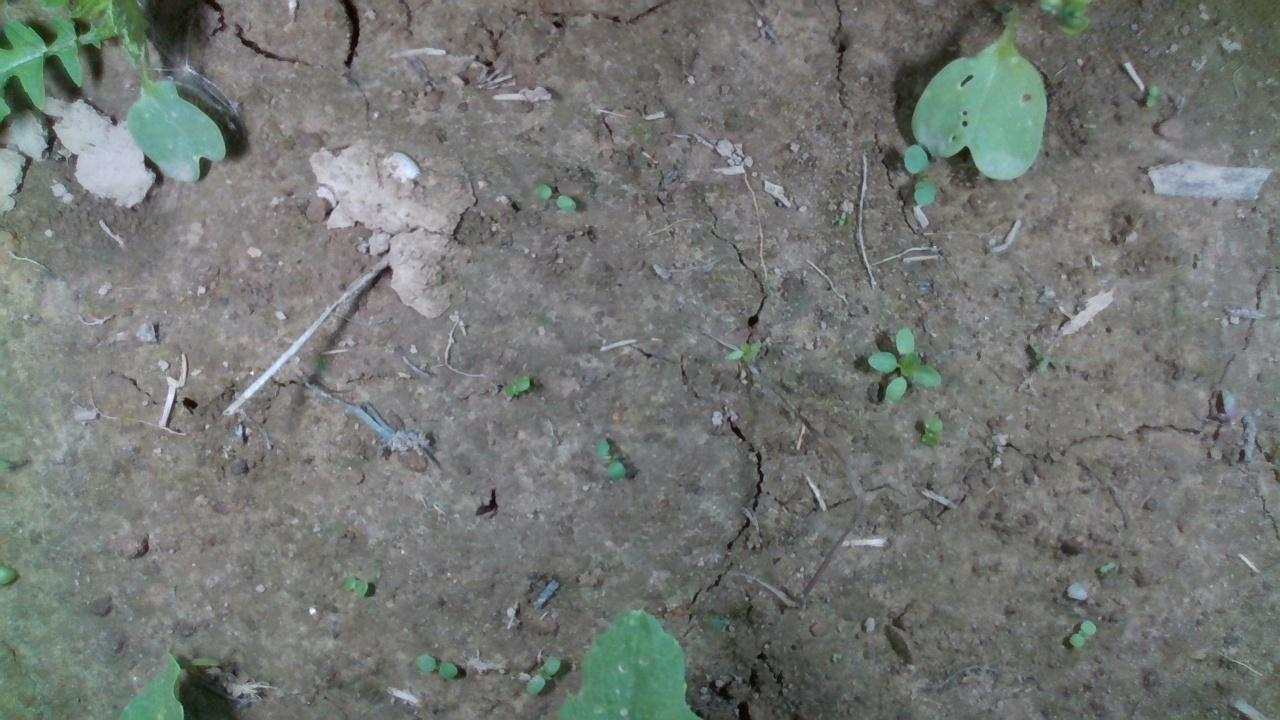weed: (864, 322, 942, 400), (524, 654, 561, 694), (593, 437, 625, 480), (532, 183, 577, 211), (413, 652, 457, 678), (722, 338, 762, 362), (1067, 617, 1096, 649), (501, 374, 529, 399), (341, 574, 369, 597), (1145, 82, 1159, 108), (1097, 558, 1116, 575), (837, 210, 845, 226)
